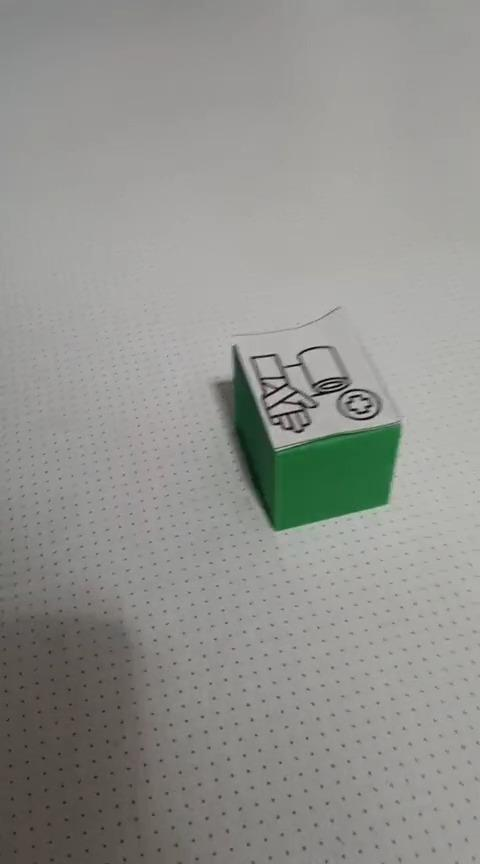Bandages: (229, 304, 403, 531)
